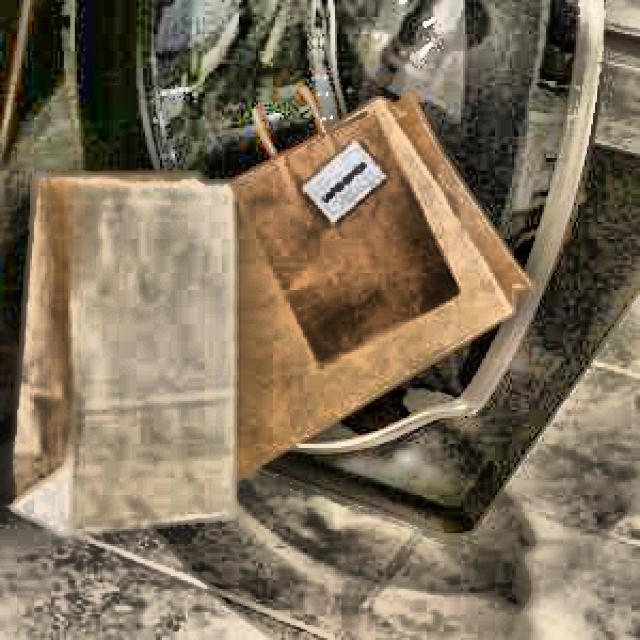Paper-bag: (146, 83, 528, 518), (0, 152, 252, 540), (224, 82, 470, 366)
